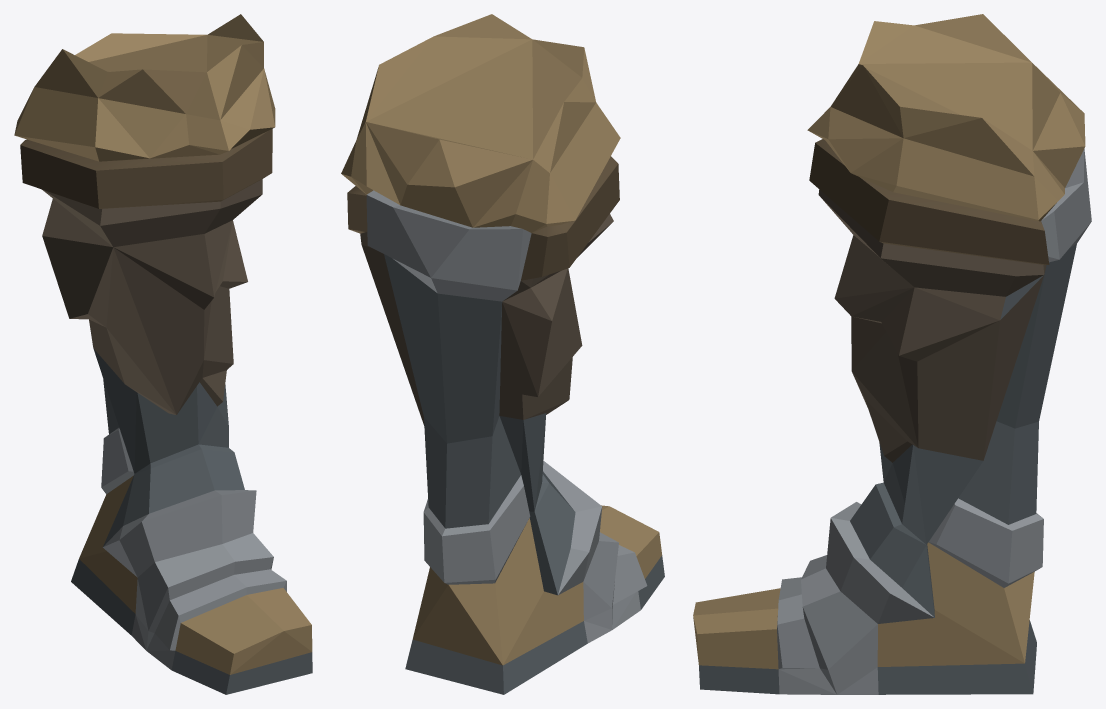
File: Chr_LegRight_Female_05_Static.fbx
The picture shows the model from 3 angles, left to right: view 1: azimuth 30°, elevation 25°; view 2: azimuth 150°, elevation 25°; view 3: azimuth 270°, elevation 25°; orthographic projection. The views are drawn at different scales.
Parts seen in each view (by area): view 1: Chr_LegRight_Female_05_Static; view 2: Chr_LegRight_Female_05_Static; view 3: Chr_LegRight_Female_05_Static.
Boxes of the visible parts, x1,y1,x2,y2 form: Chr_LegRight_Female_05_Static: (14,14,312,694); Chr_LegRight_Female_05_Static: (341,14,664,694); Chr_LegRight_Female_05_Static: (693,14,1091,694).
Bounding box in the file's own units: 0.166 × 0.4165 × 0.2404.
